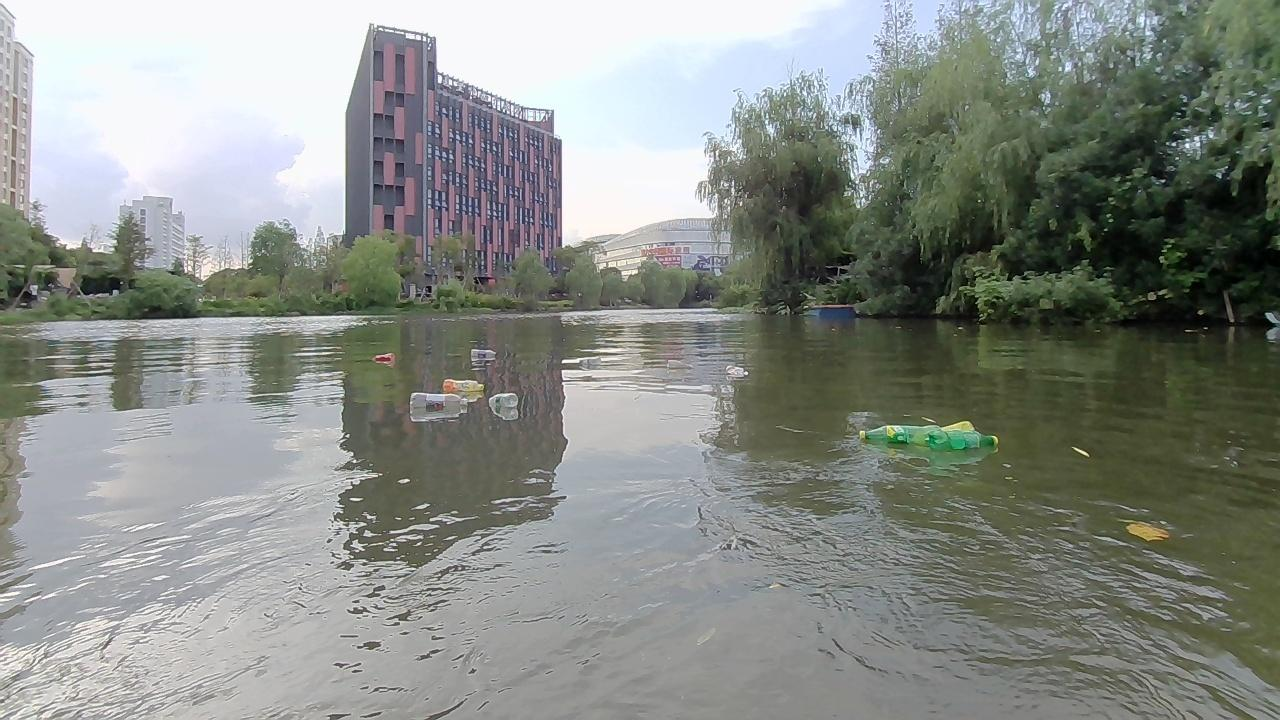bottle: (856, 416, 936, 448), (924, 431, 1005, 454), (406, 387, 472, 411), (441, 379, 492, 402), (932, 415, 971, 439), (721, 359, 751, 381), (487, 393, 521, 412), (469, 347, 500, 366), (371, 354, 391, 367)
